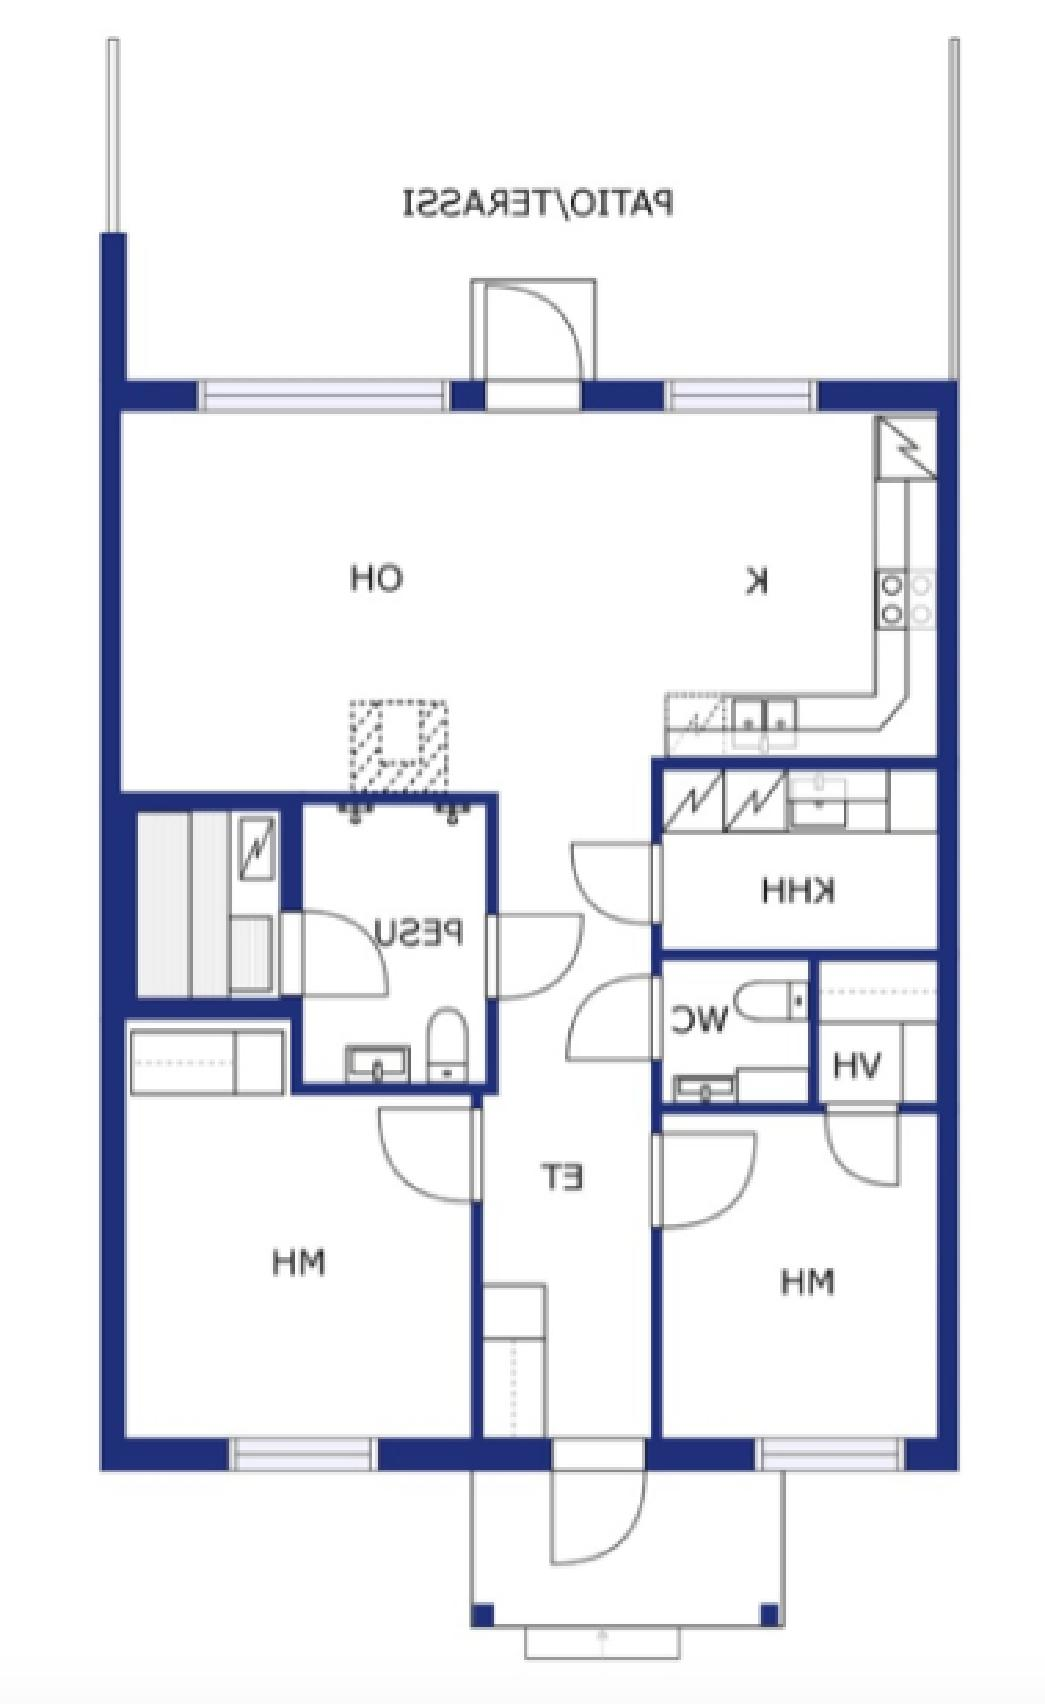door: (471, 275, 601, 414), (549, 1434, 645, 1566), (378, 1097, 485, 1203), (281, 908, 394, 1008), (563, 970, 672, 1065), (648, 1132, 754, 1228), (563, 835, 669, 930), (478, 910, 588, 997), (821, 1099, 903, 1194)
window: (196, 375, 453, 415), (225, 1439, 376, 1474), (754, 1441, 908, 1475), (667, 383, 816, 411)
zone: (118, 414, 940, 1439), (116, 39, 953, 379), (131, 1021, 465, 1444), (661, 1108, 931, 1441), (658, 763, 938, 946), (309, 803, 487, 1086), (471, 1472, 779, 1622), (136, 819, 285, 997), (663, 963, 807, 1102), (820, 962, 938, 1103)
